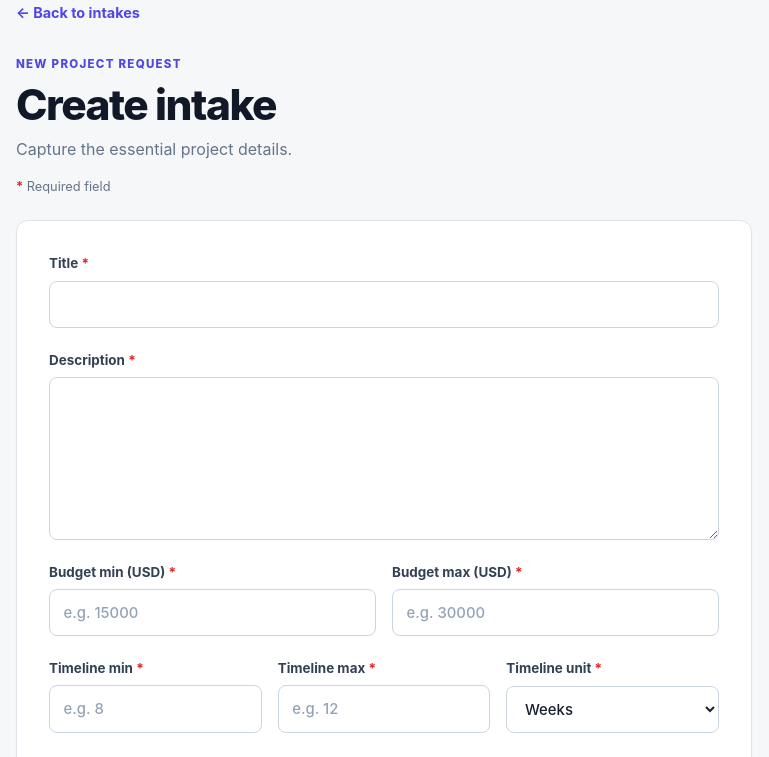
Test: create intake validation › maps backend validation to the relevant field
This screenshot has width=769, height=757.
Type "Permit review copilot" into the field labelled "Title". click: (384, 304)
box: x1=49 y1=281 x2=719 y2=328
Type "Review construction permits and building requirements." into the text box labelled "Description". click: (384, 459)
box: x1=49 y1=377 x2=719 y2=540
Type "1500" into the number field labelled "Budget min (USD)". click: (212, 613)
box: x1=49 y1=589 x2=376 y2=636
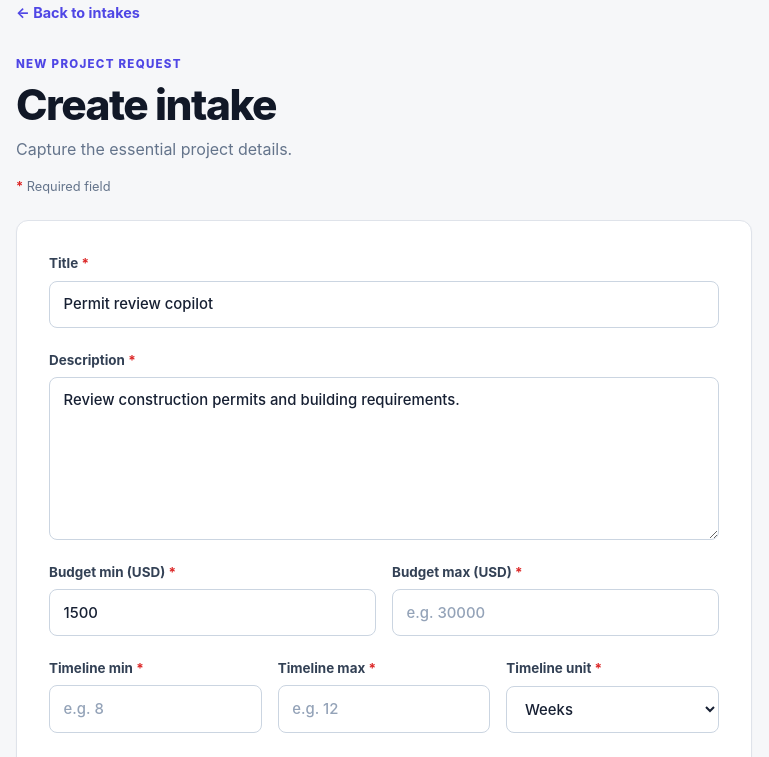
Type "15000" into the number field labelled "Budget max (USD)". click: (556, 613)
box: x1=392 y1=589 x2=719 y2=636
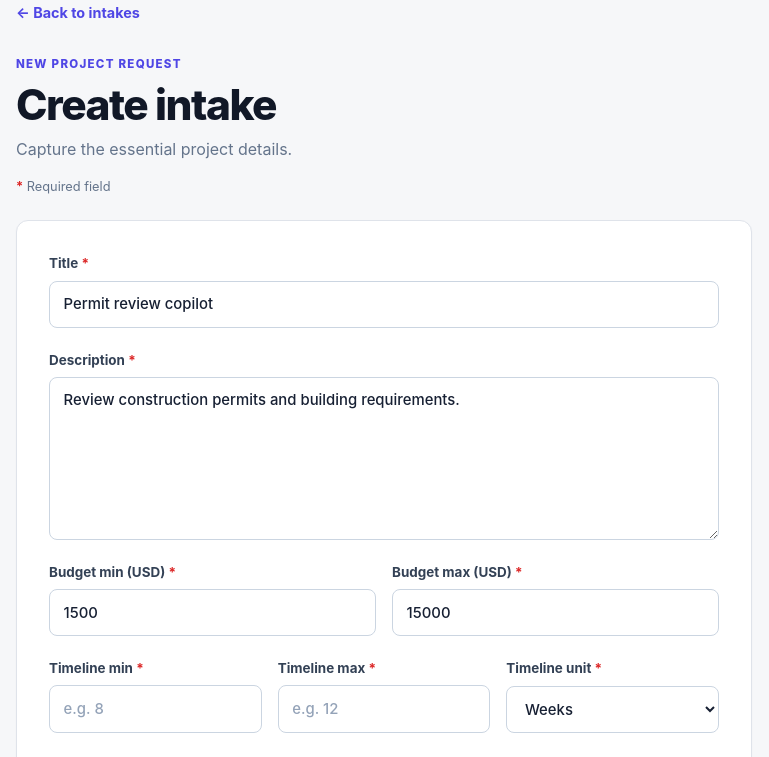
Type "2" into the number field labelled "Timeline min". click: (155, 709)
box: x1=49 y1=685 x2=262 y2=733
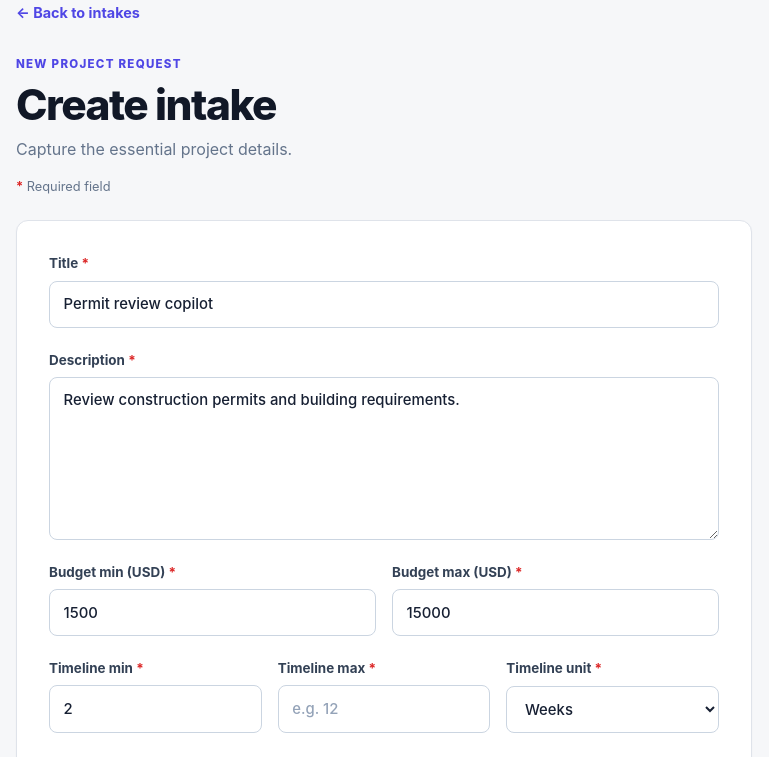
Type "4" into the number field labelled "Timeline max". click: (384, 709)
box: x1=278 y1=685 x2=490 y2=733
(page scrolled)
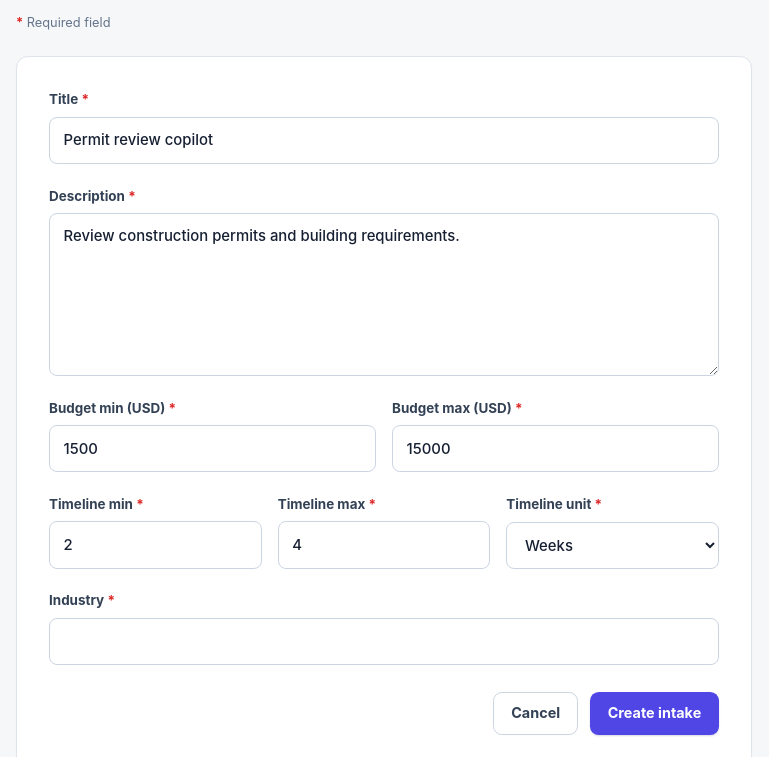
Type "Construction" into the field labelled "Industry". click: (384, 641)
box: x1=49 y1=618 x2=719 y2=665
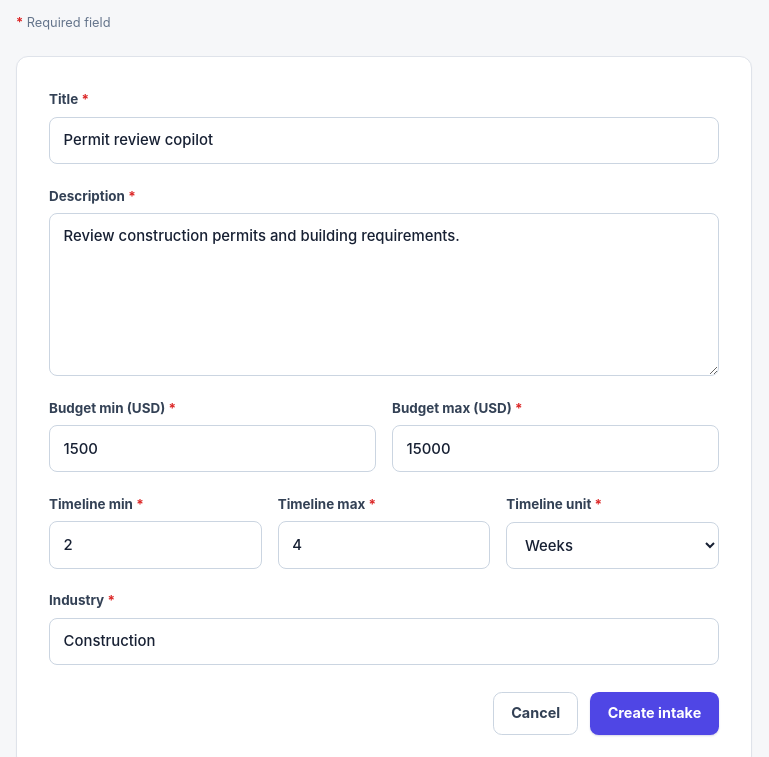
Click the button "Create intake". click: (654, 713)
box: x1=590 y1=692 x2=719 y2=735
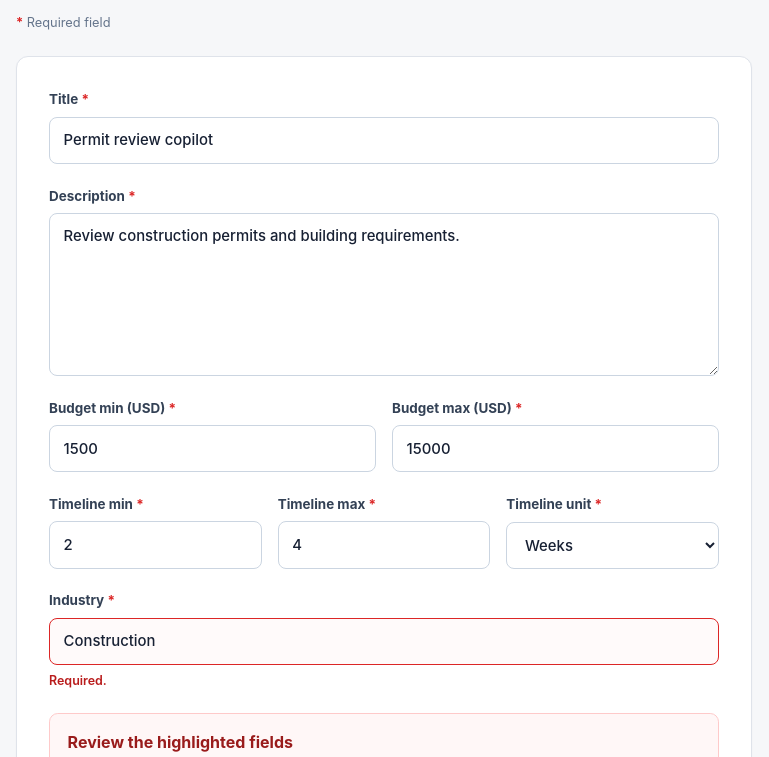
Now the text "Review the highlighted fields" is shown, box x1=68 y1=732 x2=293 y2=752
